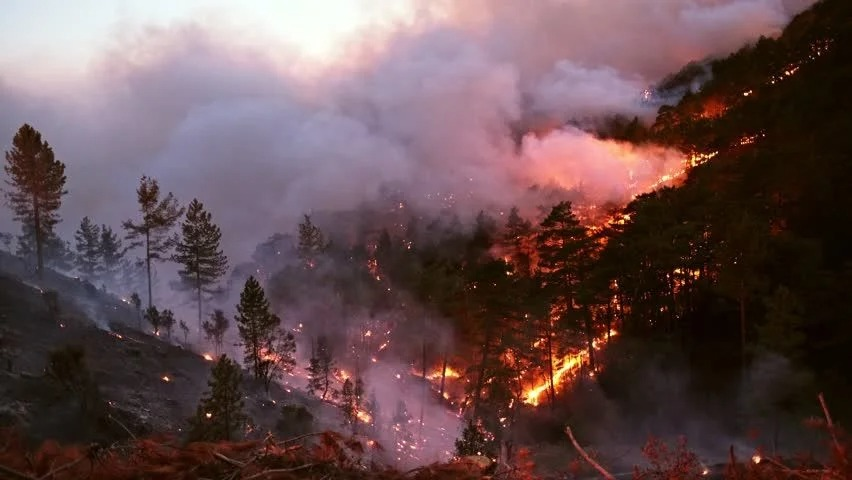forest_fire: (510, 328, 618, 405), (647, 152, 716, 189), (426, 366, 460, 379), (262, 348, 282, 366), (332, 370, 353, 385), (357, 407, 372, 424)
